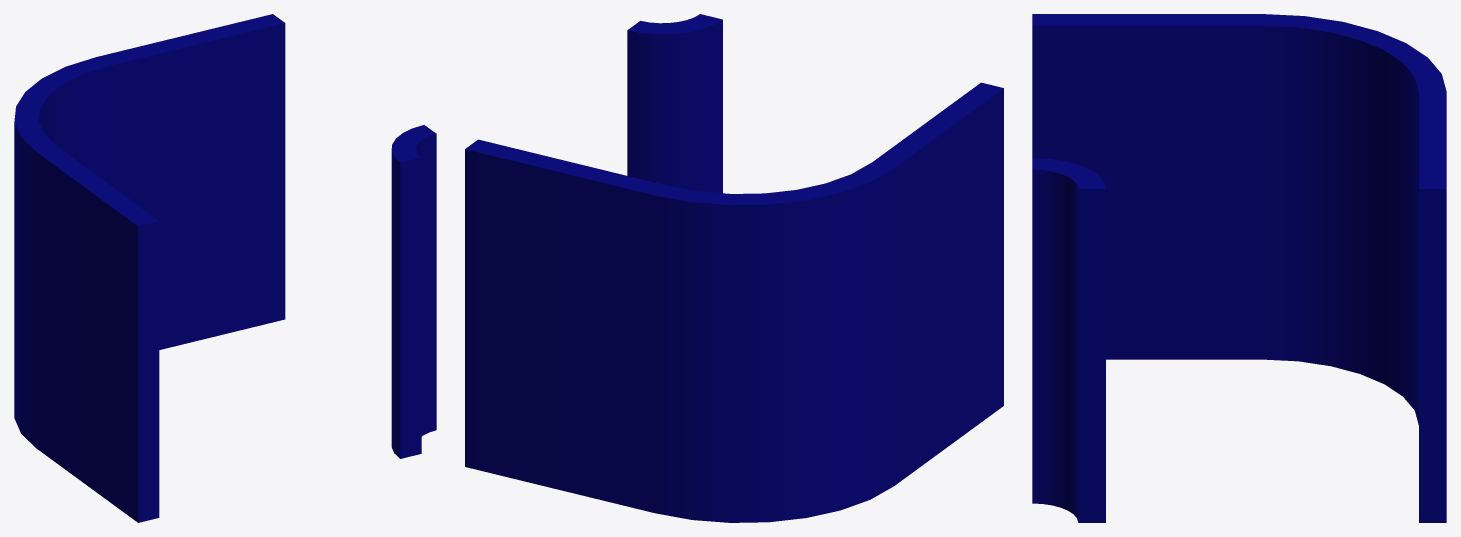
The model's file is Wall05.FBX.
3 views of the same model, side by side, from view 1: azimuth 30°, elevation 25°; view 2: azimuth 150°, elevation 25°; view 3: azimuth 270°, elevation 25° (orthographic). The views are drawn at different scales.
Parts seen in each view (by area): view 1: Wall05; view 2: Wall05; view 3: Wall05.
Part boxes in pixels (x1,y1,x2,y2): Wall05: (14, 14, 436, 522); Wall05: (465, 14, 1003, 522); Wall05: (1032, 14, 1446, 522).
Size of the model in its own units: 90 by 80 by 90.
1 material, 1 textured.
